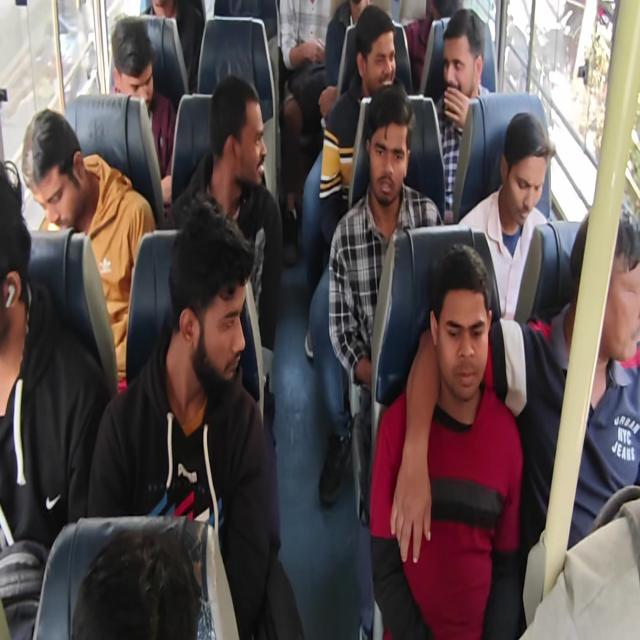person: (2, 1, 638, 638), (390, 206, 639, 631), (86, 195, 299, 638), (327, 83, 444, 637), (369, 242, 524, 638), (0, 158, 109, 638), (170, 74, 283, 443), (25, 108, 156, 392), (457, 110, 556, 324), (318, 4, 403, 245), (71, 527, 202, 639), (278, 1, 334, 263), (108, 16, 176, 206), (434, 8, 492, 215), (319, 0, 371, 123), (140, 0, 205, 94)
